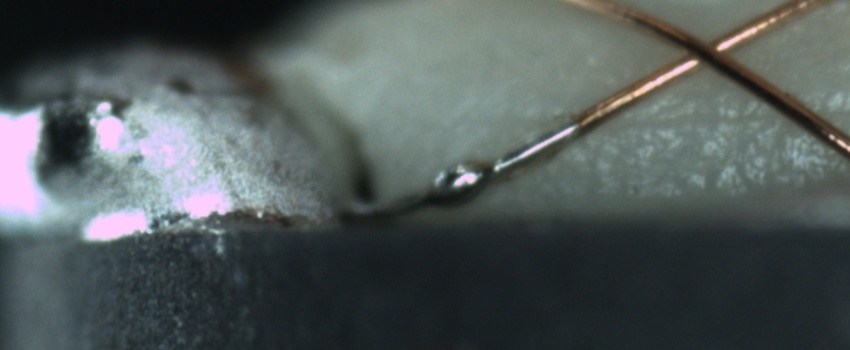CL: (659, 17, 750, 80)
DL: (531, 94, 849, 143)
TB: (422, 154, 496, 210)
TS: (344, 121, 580, 221)
TTCW: (341, 87, 634, 221)
